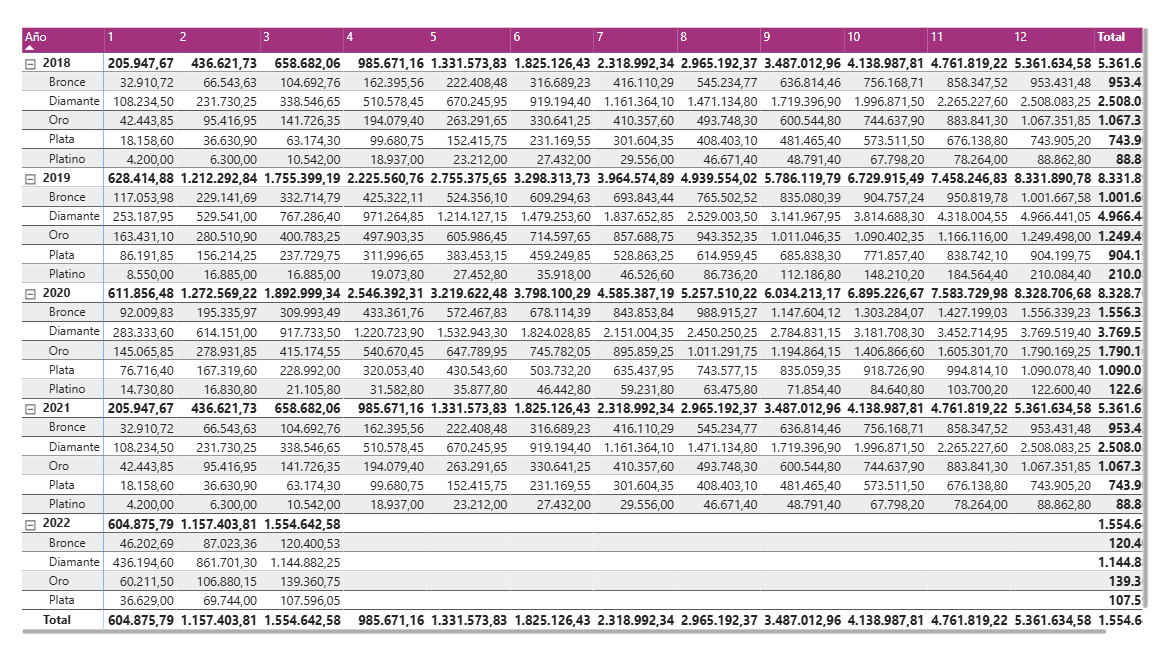

Layout of this report page (visuals, bound fields, positions):
{"tool":"powerbi","page":{"name":"Acumulados temporales","canvas":[1940,1080],"ordinal":3},"visuals":[{"type":"pivotTable","fields":{"Rows":["Calendario.Año","Pedidos.Tipo Venta"],"Values":["Medidas.Acumulado Anual"],"Columns":["Calendario.Mes"]},"box":[34.8,42.2,1886.8,1021.3],"z":0}]}

Visuals, with their boxes in screenshot pixels (x1, y1, x2, y2), scaled from the page's 1940x1080 canvas onto the 1156x645 screenshot:
pivotTable - Calendario.Año x Pedidos.Tipo Venta: {"x1": 21, "y1": 25, "x2": 1145, "y2": 635}
